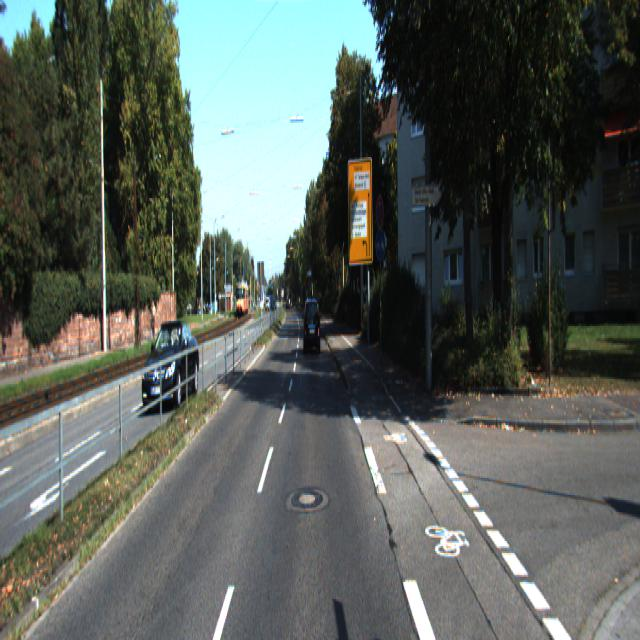Car: (141, 320, 201, 412), (304, 298, 321, 356), (236, 285, 249, 321)
